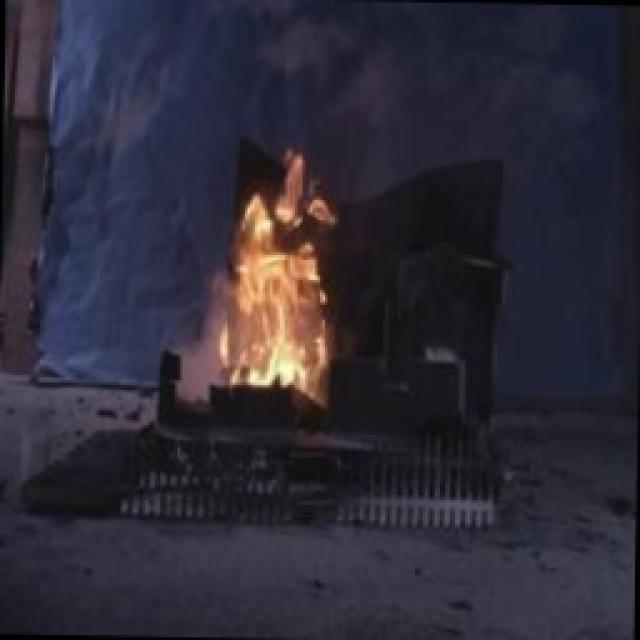fire: (205, 130, 350, 415)
